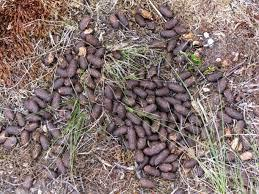Elk: (113, 81, 192, 163), (57, 48, 103, 93), (17, 88, 54, 128)
